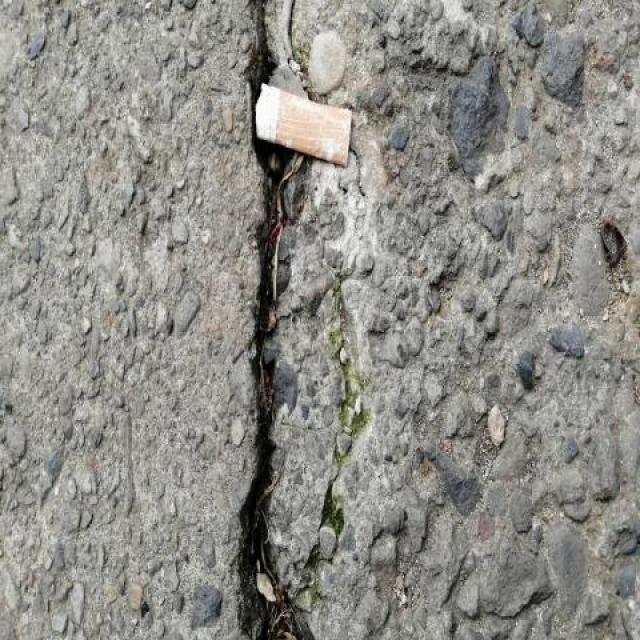non-organic waste: (250, 81, 358, 170)
